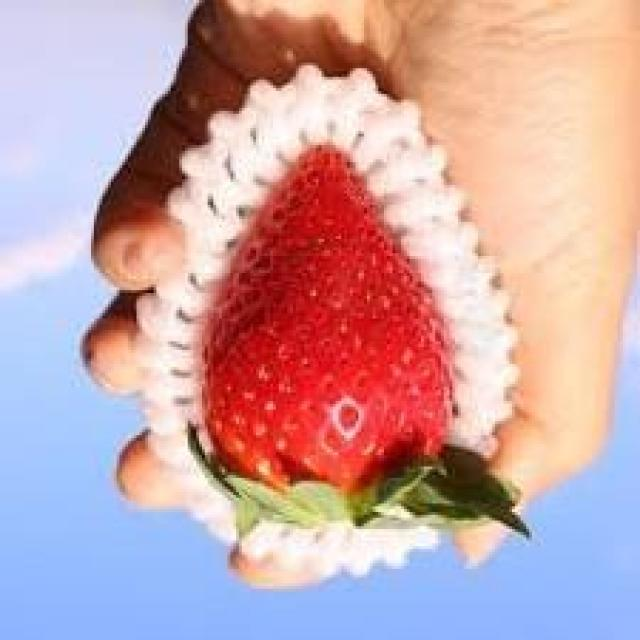mature: (201, 142, 452, 499)
